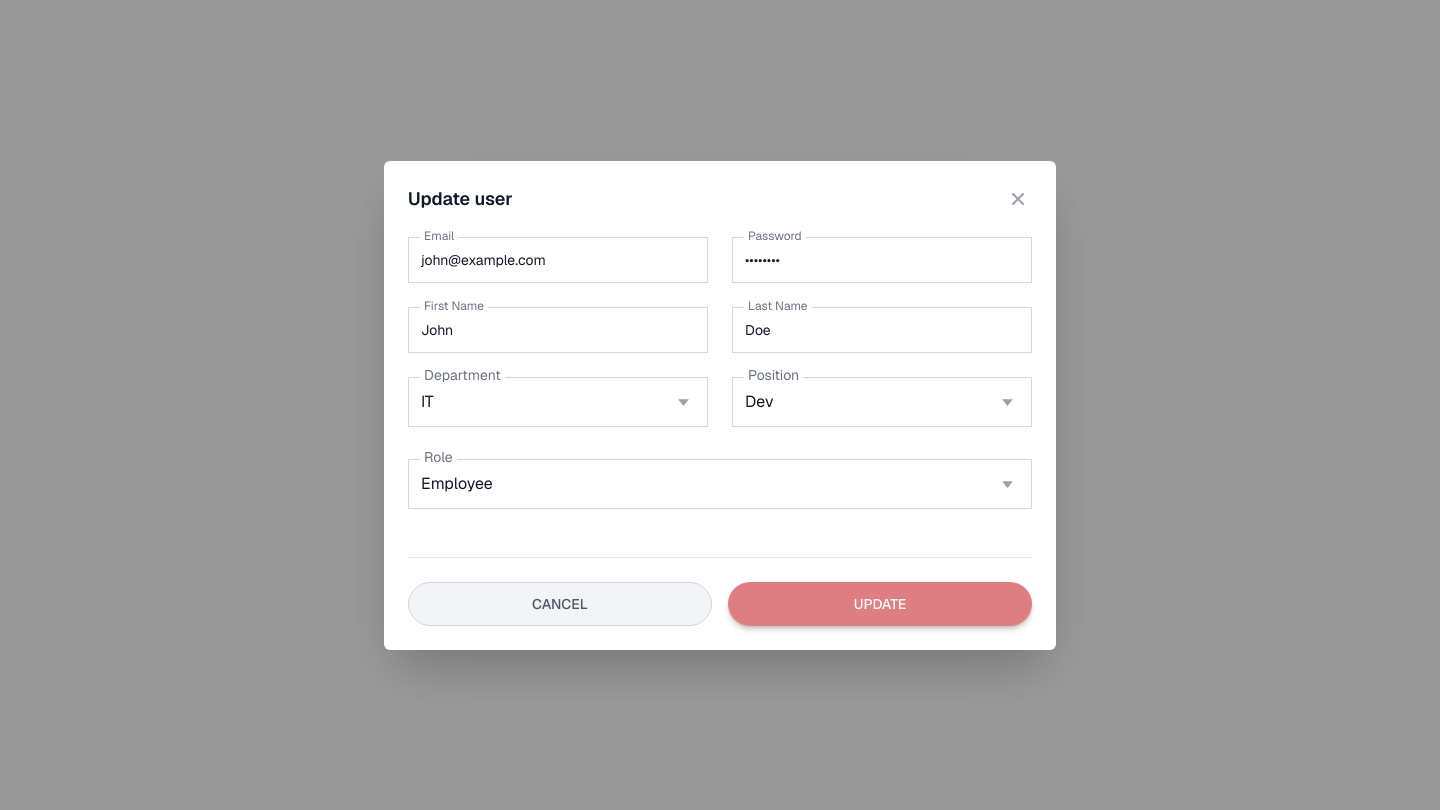
Test: UpdateModal › активирует кнопку Update при изменении роли
What coordinates should you click on to do the following:
click the text "Employee"
I would click on:
 (457, 484)
Its box is [421, 472, 493, 496].
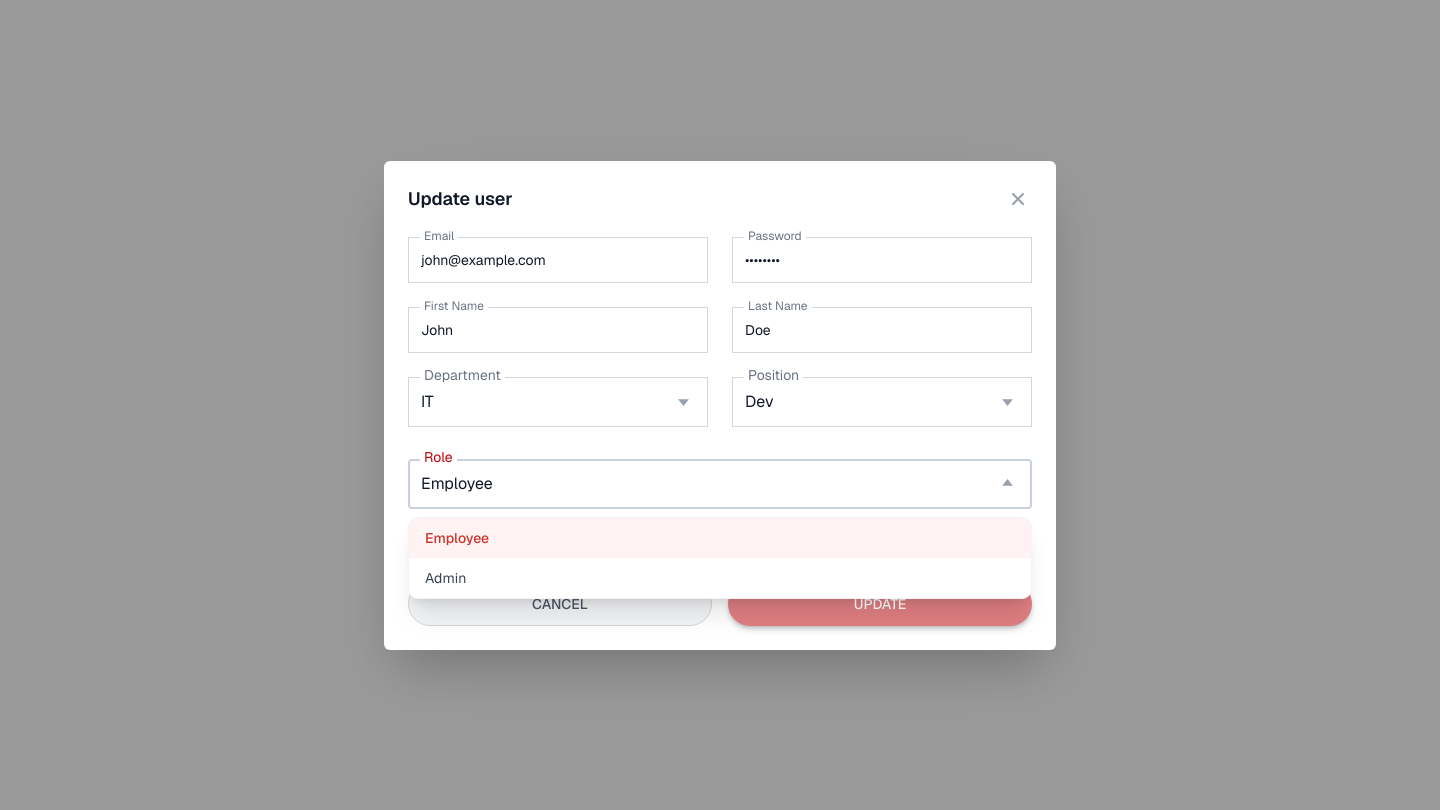
What coordinates should you click on to do the following:
click the text "Admin"
I would click on:
 (446, 578)
Its box is [425, 568, 466, 586].
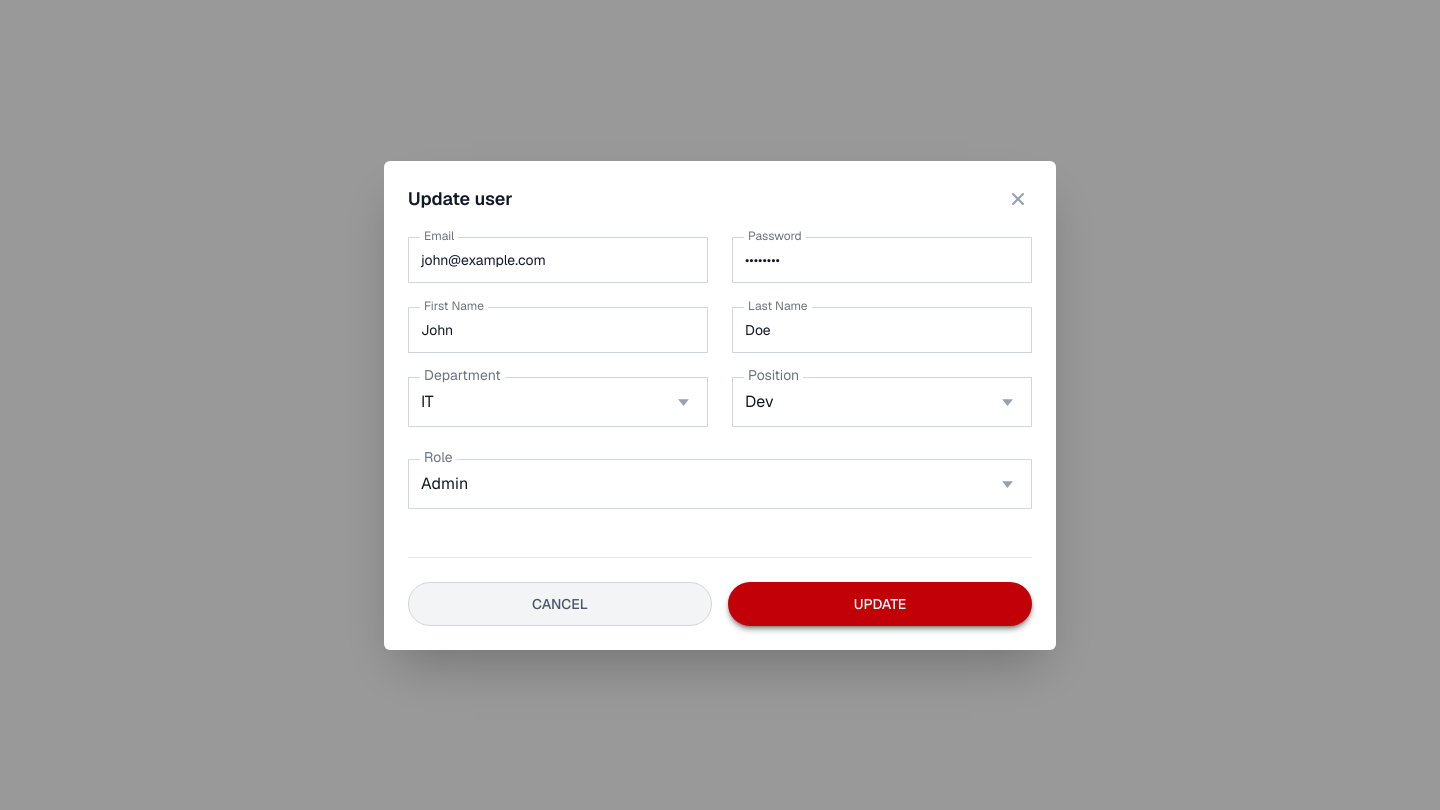
Expected: the button "Update" is enabled, [728, 582, 1032, 626]
